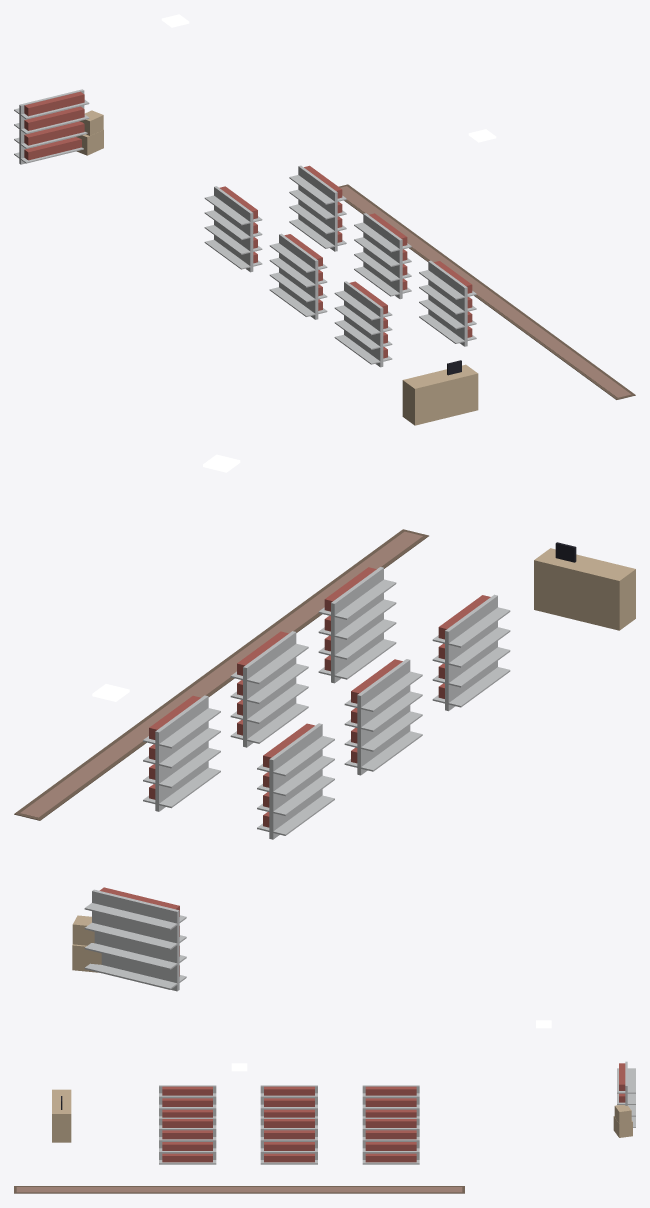
Rendered from fine-s0.glb.
3 views of the same model, one above another, from view 1: azimuth 30°, elevation 25°; view 2: azimuth 150°, elevation 25°; view 3: azimuth 270°, elevation 25° (orthographic). The views are drawn at different scales.
Visible parts, largest first — view 1: soft-s0, shelving.000, shop-counter.000, shelf.004, shelf.003, shelf.005, shelf.002, shelf.000, shelf.001, cardboard-box.000; view 2: soft-s0, shelving.000, shop-counter.000, shelf.002, shelf.004, shelf.005, shelf.001, shelf.000, shelf.003, cardboard-box.000; view 3: soft-s0, shelf.003, shelf.004, shelf.005, shelf.000, shelf.001, shelf.002, shop-counter.000, shelving.000, cardboard-box.000.
Part boxes in pixels (x1=…): soft-s0: x1=339, y1=184, x2=635, y2=399; shelving.000: x1=14, y1=89, x2=89, y2=164; shop-counter.000: x1=402, y1=360, x2=478, y2=425; shelf.004: x1=354, y1=213, x2=411, y2=299; shelf.003: x1=289, y1=165, x2=346, y2=251; shelf.005: x1=419, y1=260, x2=476, y2=346; shelf.002: x1=334, y1=281, x2=392, y2=367; shelf.000: x1=204, y1=186, x2=262, y2=272; shelf.001: x1=269, y1=233, x2=327, y2=319; cardboard-box.000: x1=76, y1=110, x2=103, y2=155; soft-s0: x1=14, y1=529, x2=428, y2=820; shelving.000: x1=84, y1=887, x2=186, y2=991; shop-counter.000: x1=534, y1=542, x2=635, y2=630; shelf.002: x1=432, y1=594, x2=510, y2=711; shelf.004: x1=230, y1=631, x2=308, y2=747; shelf.005: x1=318, y1=567, x2=396, y2=683; shelf.001: x1=344, y1=659, x2=422, y2=775; shelf.000: x1=257, y1=723, x2=334, y2=839; shelf.003: x1=143, y1=695, x2=220, y2=811; cardboard-box.000: x1=72, y1=915, x2=101, y2=972; soft-s0: x1=14, y1=1186, x2=464, y2=1193; shelf.003: x1=362, y1=1117, x2=419, y2=1164; shelf.004: x1=260, y1=1117, x2=317, y2=1164; shelf.005: x1=159, y1=1117, x2=216, y2=1164; shelf.000: x1=362, y1=1085, x2=419, y2=1117; shelf.001: x1=260, y1=1085, x2=317, y2=1117; shelf.002: x1=159, y1=1085, x2=216, y2=1117; shop-counter.000: x1=52, y1=1089, x2=71, y2=1142; shelving.000: x1=617, y1=1061, x2=635, y2=1127; cardboard-box.000: x1=613, y1=1105, x2=632, y2=1137.
Bounding box in the file's own units: 6.4 × 4.28 × 19.56.
